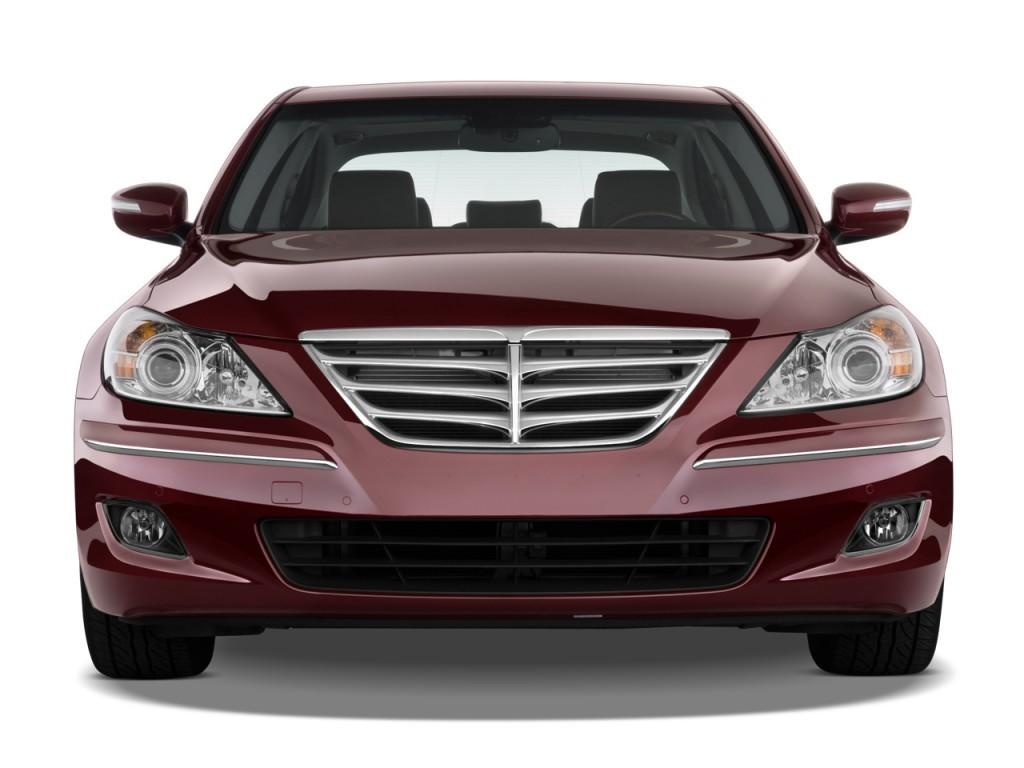Sedan: (71, 78, 955, 682)
